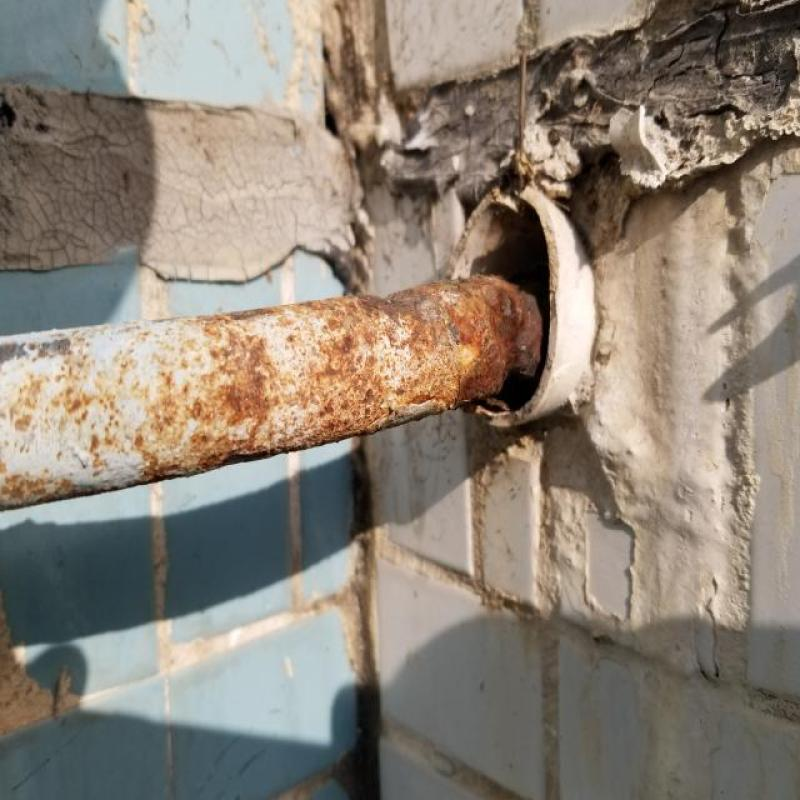corrosion: (230, 283, 525, 415)
